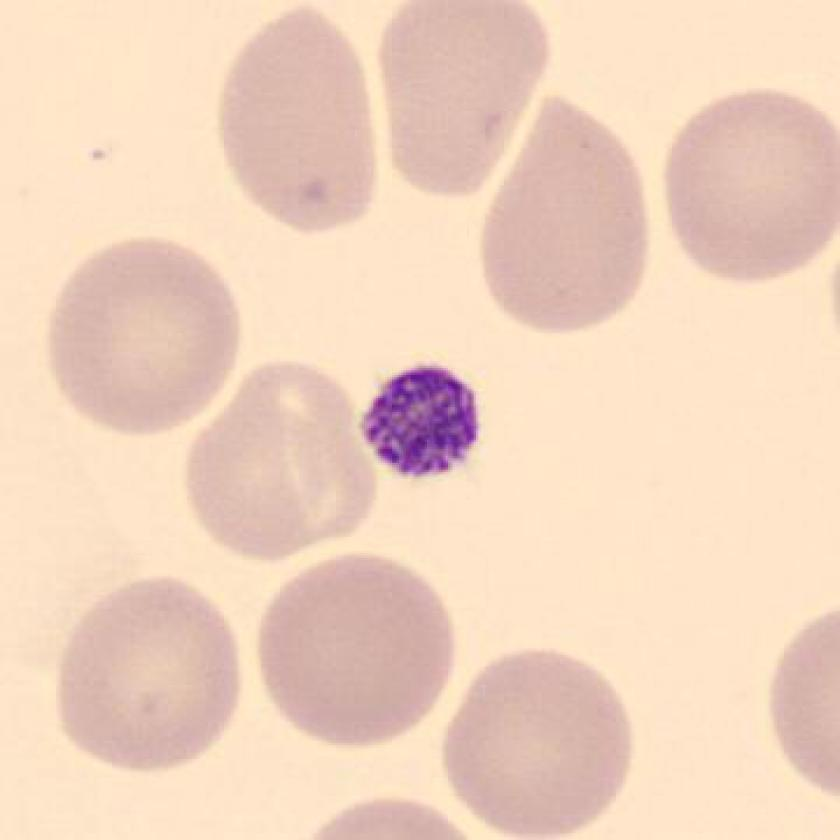platelets: (358, 362, 493, 489)
